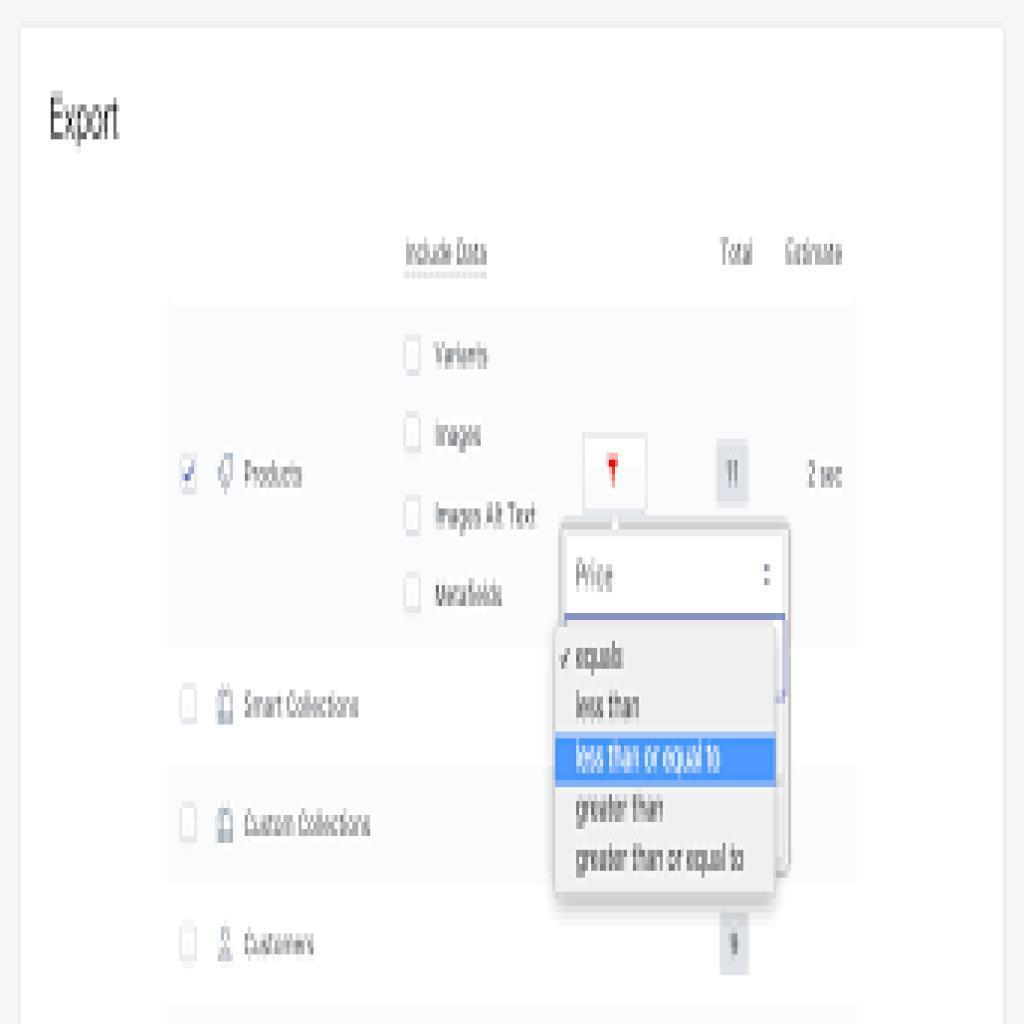button: (555, 738, 774, 785)
checkbox: (180, 453, 202, 495), (403, 495, 424, 537), (179, 803, 200, 845), (405, 335, 424, 380), (403, 574, 423, 616), (178, 925, 199, 962), (180, 685, 199, 725), (403, 414, 422, 451)
icon: (210, 799, 238, 850), (215, 450, 240, 497), (214, 681, 237, 731), (755, 552, 778, 599), (214, 922, 236, 968)
label: (242, 804, 376, 844), (429, 494, 542, 538), (244, 685, 363, 726), (242, 923, 320, 965), (434, 572, 509, 615), (242, 456, 311, 494), (431, 336, 494, 375), (431, 417, 485, 453)
